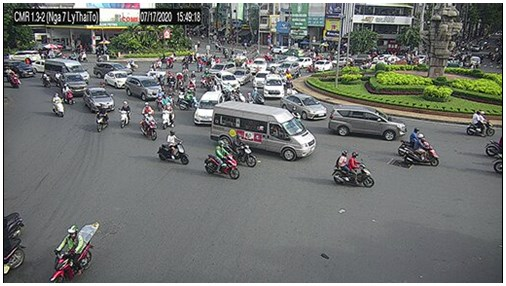xe_hoi: (329, 105, 406, 141), (281, 94, 328, 120), (194, 91, 223, 125), (126, 74, 158, 100), (83, 88, 114, 112), (94, 61, 131, 79), (60, 73, 88, 94), (215, 72, 242, 93), (5, 61, 36, 79), (264, 73, 284, 100), (104, 71, 130, 89), (9, 50, 40, 64), (311, 60, 334, 73), (211, 61, 235, 73), (253, 69, 268, 87), (251, 57, 267, 71)
xe_khach: (212, 100, 315, 161), (45, 58, 89, 82)
xe_may: (45, 222, 97, 282), (204, 140, 240, 181), (334, 151, 374, 187), (404, 133, 439, 166), (158, 131, 189, 164), (229, 133, 257, 168), (401, 127, 430, 155), (469, 109, 494, 138), (137, 111, 156, 140), (94, 103, 110, 133), (119, 100, 133, 128), (181, 88, 198, 110), (162, 102, 175, 130), (251, 84, 266, 105), (53, 93, 65, 117), (232, 85, 247, 102), (200, 69, 211, 88), (156, 86, 164, 110), (180, 54, 192, 68), (9, 70, 18, 88), (54, 69, 62, 88), (285, 68, 293, 87), (166, 70, 175, 86), (190, 69, 197, 87), (42, 71, 50, 86), (177, 71, 184, 87), (166, 56, 174, 67)
